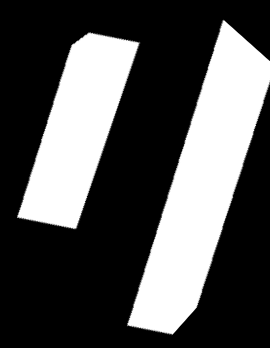parkingspot: (127, 20, 270, 335), (17, 33, 139, 229)
